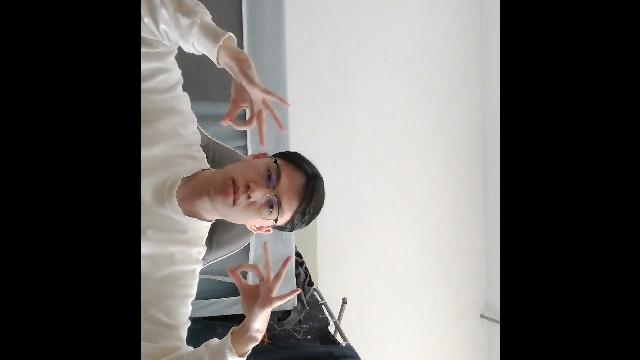ok: (219, 48, 292, 150), (226, 240, 304, 335)
